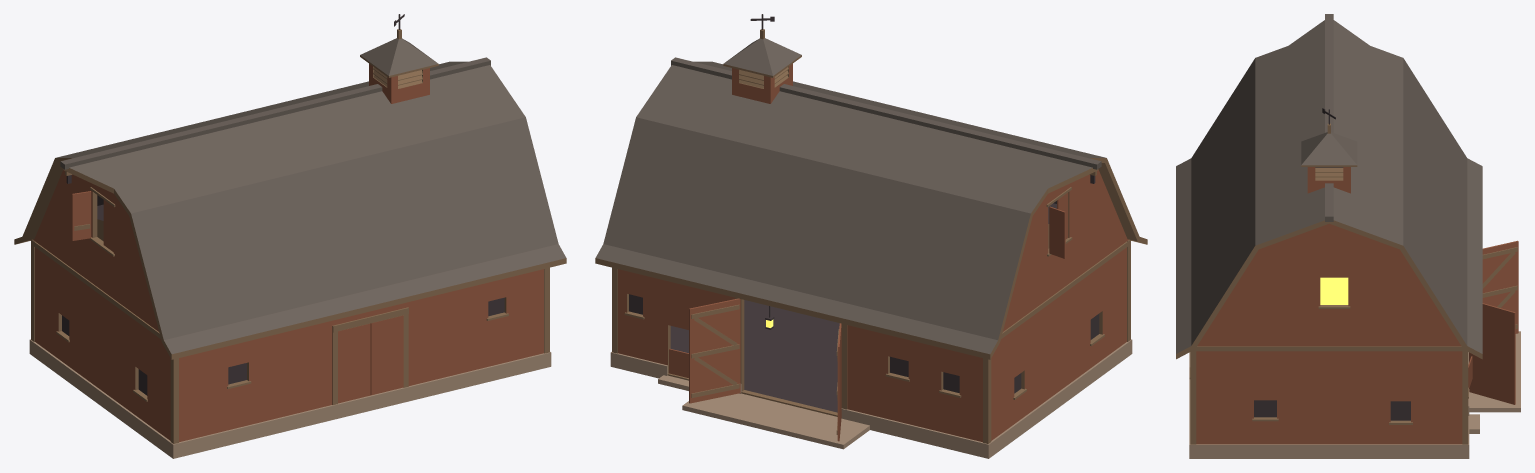
Rendered from barn.glb.
The picture shows the model from 3 angles, left to right: view 1: azimuth 30°, elevation 25°; view 2: azimuth 150°, elevation 25°; view 3: azimuth 270°, elevation 25°; orthographic projection. The views are drawn at different scales.
Visible parts, largest first — view 1: Mesh_Roof, Mesh_Walls, Mesh_Plinth, Mesh_NorthDoors, Mesh_Barge, Mesh_Trim, Mesh_CupolaCap, Mesh_NorthDoorFrame, Mesh_Cupola, Mesh_Glass, Mesh_HayDoorOpen_Boards, Mesh_Soffit; view 2: Mesh_Roof, Mesh_Walls, Mesh_Interior, Mesh_Plinth, Mesh_Apron, Mesh_CartDoorEast_Boards, Mesh_Trim, Mesh_Barge, Mesh_CupolaCap, Mesh_DoorFrames, Mesh_CartDoorEast_Ledges, Mesh_Glass (+3 smaller); view 3: Mesh_Roof, Mesh_Walls, Mesh_Plinth, Mesh_CartDoorEast_Boards, Mesh_Trim, Mesh_Barge, Mesh_CartDoorWest_Boards, Mesh_CupolaCap, Mesh_Apron, Mesh_Glass, Mesh_LoftLamp, Mesh_CartDoorWest_Ledges (+3 smaller).
Part boxes in pixels (bbox=[...]): Mesh_Roof: bbox=[56, 57, 566, 354]; Mesh_Walls: bbox=[33, 169, 543, 442]; Mesh_Plinth: bbox=[29, 339, 551, 458]; Mesh_NorthDoors: bbox=[338, 315, 403, 402]; Mesh_Barge: bbox=[14, 158, 566, 359]; Mesh_Trim: bbox=[31, 192, 549, 443]; Mesh_CupolaCap: bbox=[360, 38, 438, 75]; Mesh_NorthDoorFrame: bbox=[332, 307, 408, 404]; Mesh_Cupola: bbox=[369, 63, 429, 103]; Mesh_Glass: bbox=[62, 297, 504, 395]; Mesh_HayDoorOpen_Boards: bbox=[72, 191, 91, 240]; Mesh_Soffit: bbox=[15, 163, 63, 244]; Mesh_Roof: bbox=[595, 57, 1105, 354]; Mesh_Walls: bbox=[618, 169, 1128, 442]; Mesh_Interior: bbox=[670, 300, 839, 412]; Mesh_Plinth: bbox=[610, 339, 1132, 458]; Mesh_Apron: bbox=[658, 375, 869, 449]; Mesh_CartDoorEast_Boards: bbox=[689, 298, 740, 403]; Mesh_Trim: bbox=[612, 192, 1130, 443]; Mesh_Barge: bbox=[595, 158, 1147, 359]; Mesh_CupolaCap: bbox=[723, 38, 801, 75]; Mesh_DoorFrames: bbox=[667, 297, 847, 416]; Mesh_CartDoorEast_Ledges: bbox=[691, 304, 739, 397]; Mesh_Glass: bbox=[629, 294, 1099, 393]; Mesh_Roof: bbox=[1176, 14, 1482, 353]; Mesh_Walls: bbox=[1196, 223, 1462, 444]; Mesh_Plinth: bbox=[1189, 352, 1469, 458]; Mesh_CartDoorEast_Boards: bbox=[1469, 303, 1515, 404]; Mesh_Trim: bbox=[1190, 305, 1468, 444]; Mesh_Barge: bbox=[1176, 220, 1482, 359]; Mesh_CartDoorWest_Boards: bbox=[1482, 240, 1518, 333]; Mesh_CupolaCap: bbox=[1301, 132, 1357, 165]; Mesh_Apron: bbox=[1468, 331, 1520, 433]; Mesh_Glass: bbox=[1254, 400, 1410, 420]; Mesh_LoftLamp: bbox=[1320, 277, 1348, 304]; Mesh_CartDoorWest_Ledges: bbox=[1482, 247, 1517, 328].
Bounding box in the file's own units: 18.78 × 13.45 × 13.5.
